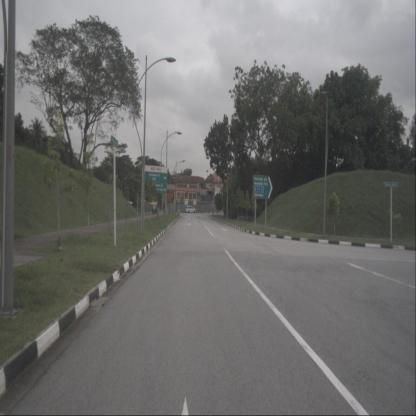vehicle-car: (185, 206, 196, 214)
